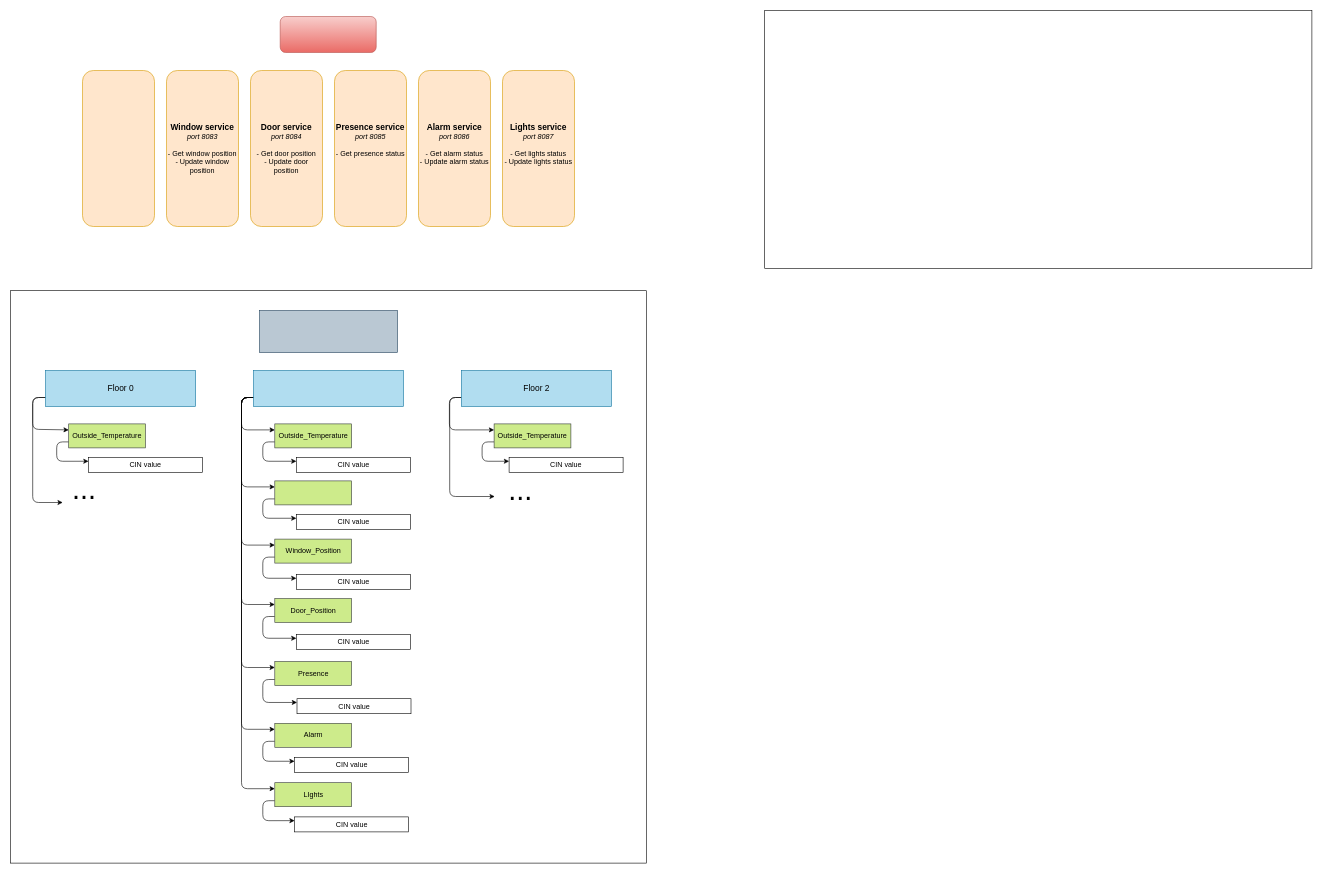
This 1322x874 diagram has some shape labels left out. Here are the shapes that lost their labels. From the top down, the centre of each, then its label:
the point at 328,34: MASTER (all the scenarii) port 8081
the point at 118,148: Temperature service port 8082 - Get temperature
the point at 328,331: IN-CSE
the point at 328,388: Floor 1
the point at 313,492: Inside_Temperature
